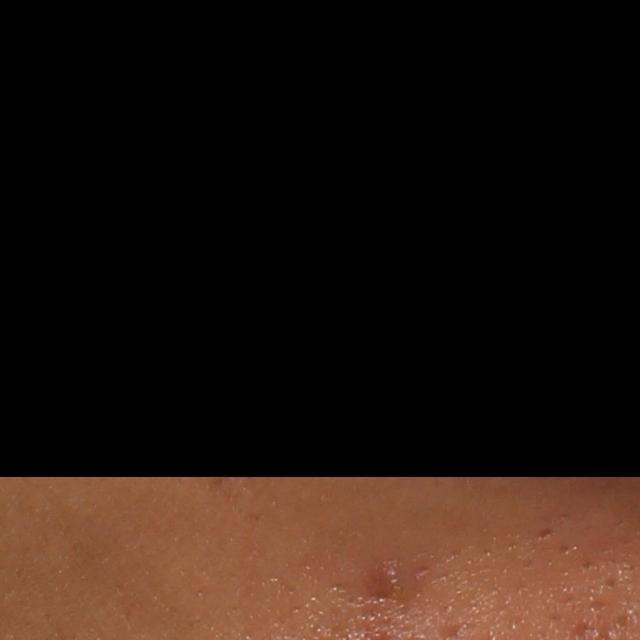atrophic_scar: (587, 595, 610, 615), (536, 527, 554, 542)
papule: (372, 557, 408, 598)
